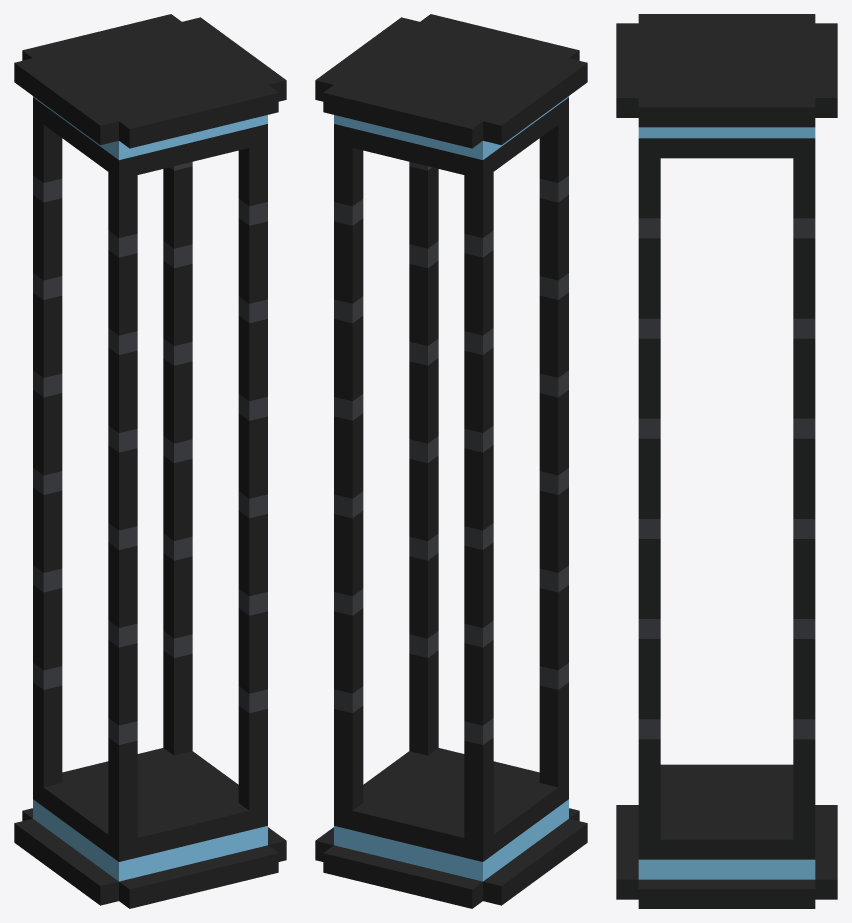
File: vial.obj
3 renders of one model, left to right at view 1: azimuth 30°, elevation 25°; view 2: azimuth 150°, elevation 25°; view 3: azimuth 270°, elevation 25°, orthographic. The views are drawn at different scales.
Bounding box in the file's own units: 1 × 4 × 1.
Materials: 1 (1 with a texture image).
